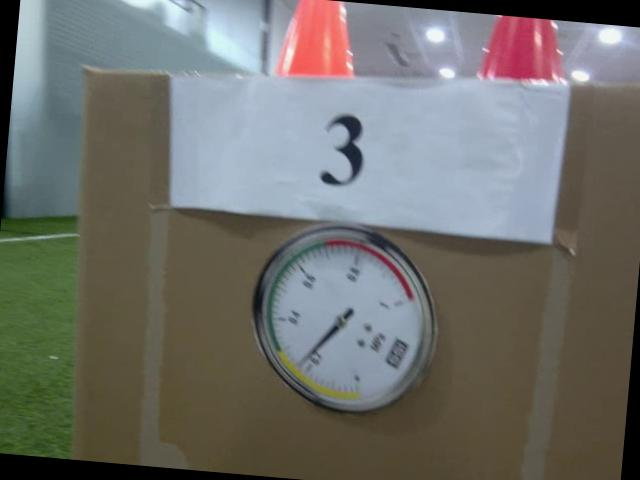3: (316, 102, 370, 188)
Dashboard: (242, 216, 448, 426)
orange_barrel: (270, 0, 362, 84)
red_barrel: (472, 13, 572, 87)
ssi: (384, 330, 411, 370)
